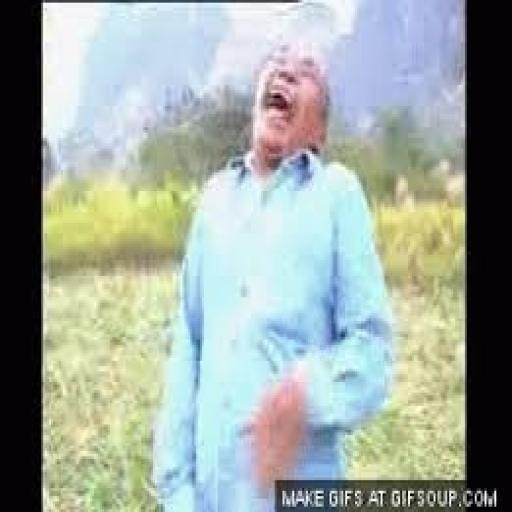laughing: (145, 26, 402, 510)
